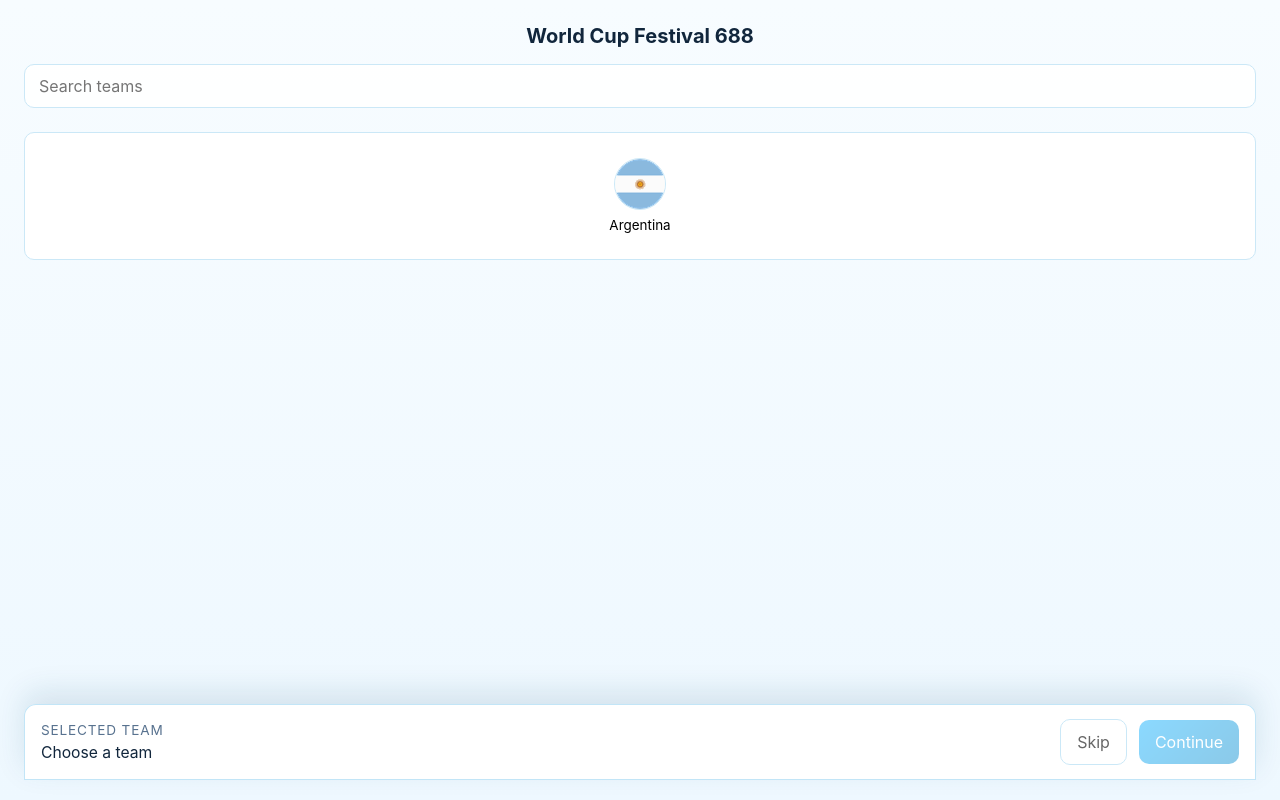
reloads team availability and clears the selection after a conflict
The image size is (1280, 800).
Step 1. Click the button "Argentina" → (640, 196), box top-left (24, 132), bottom-right (1256, 260)
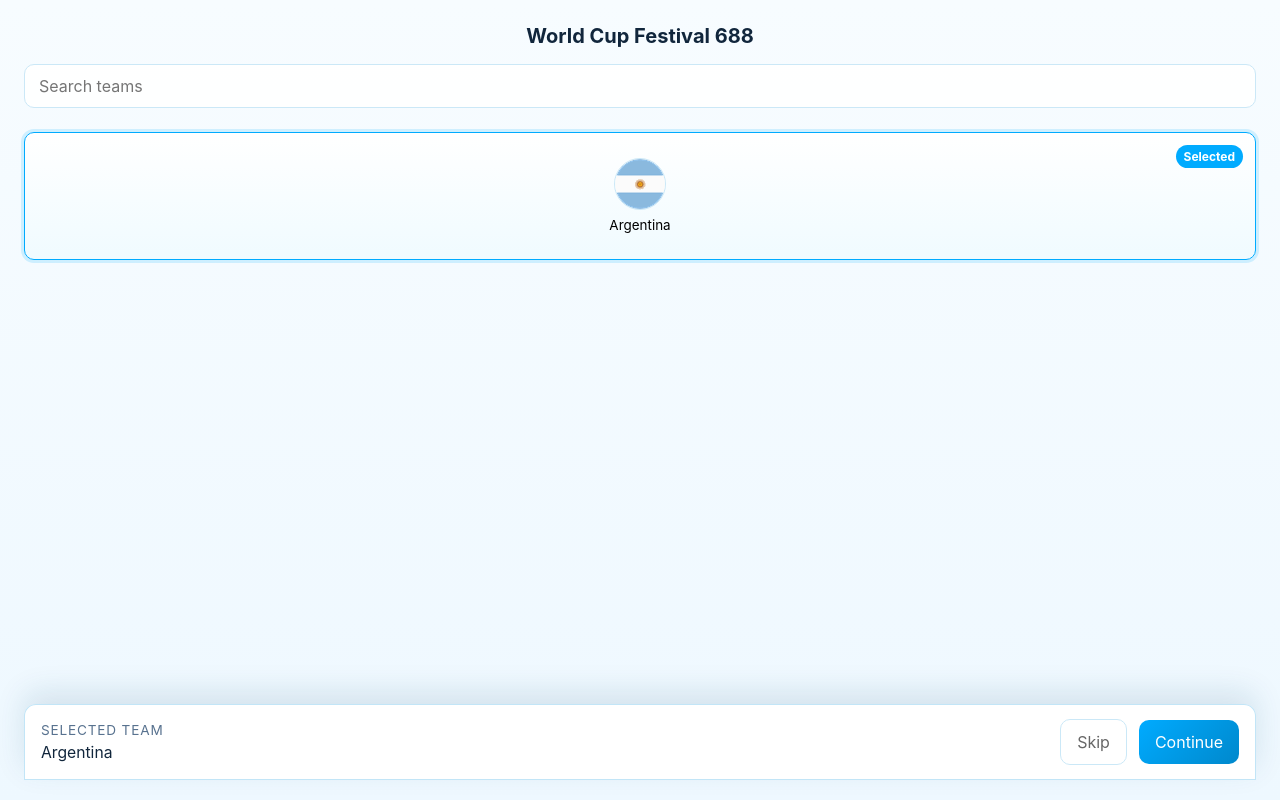
Step 2. Click the button "Continue" → (1189, 742), box top-left (1139, 720), bottom-right (1239, 764)
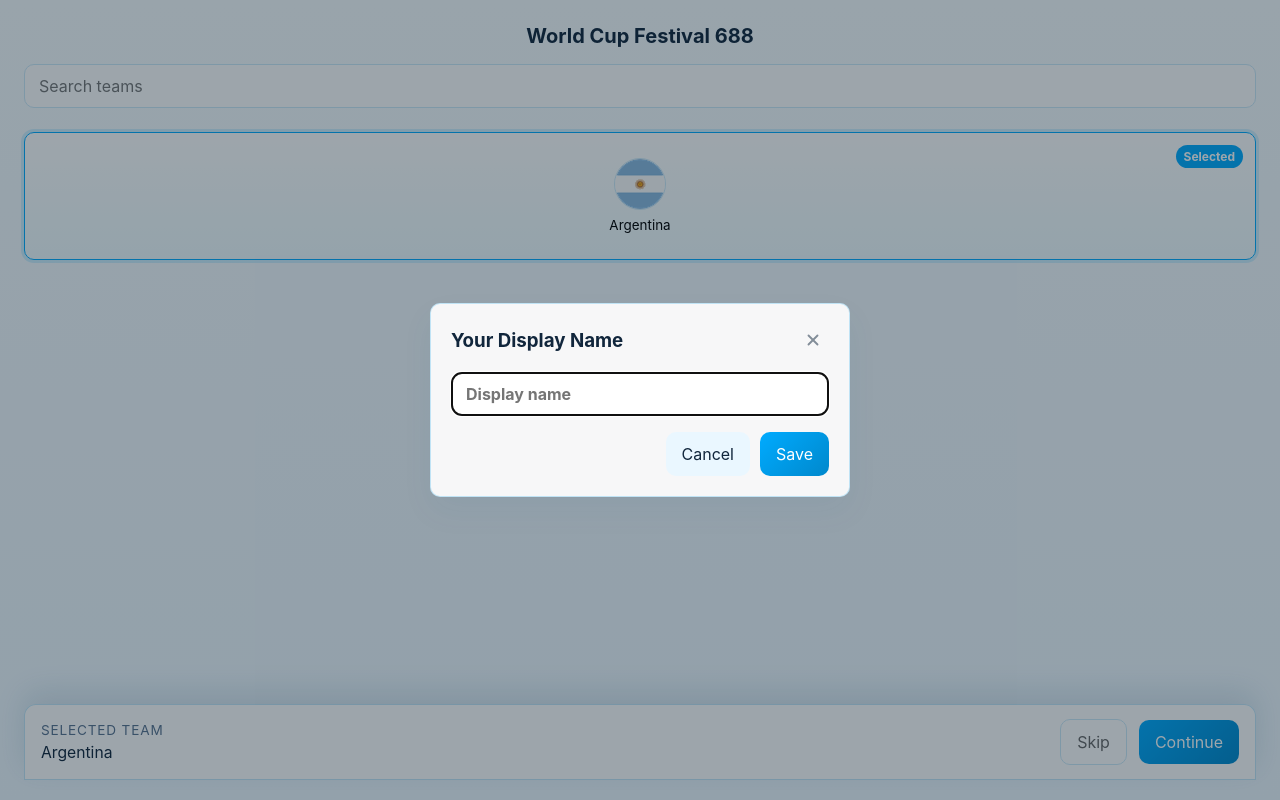
Step 3. Type "Seng" into the field with placeholder "Display name" → (640, 394), box top-left (451, 372), bottom-right (829, 416)
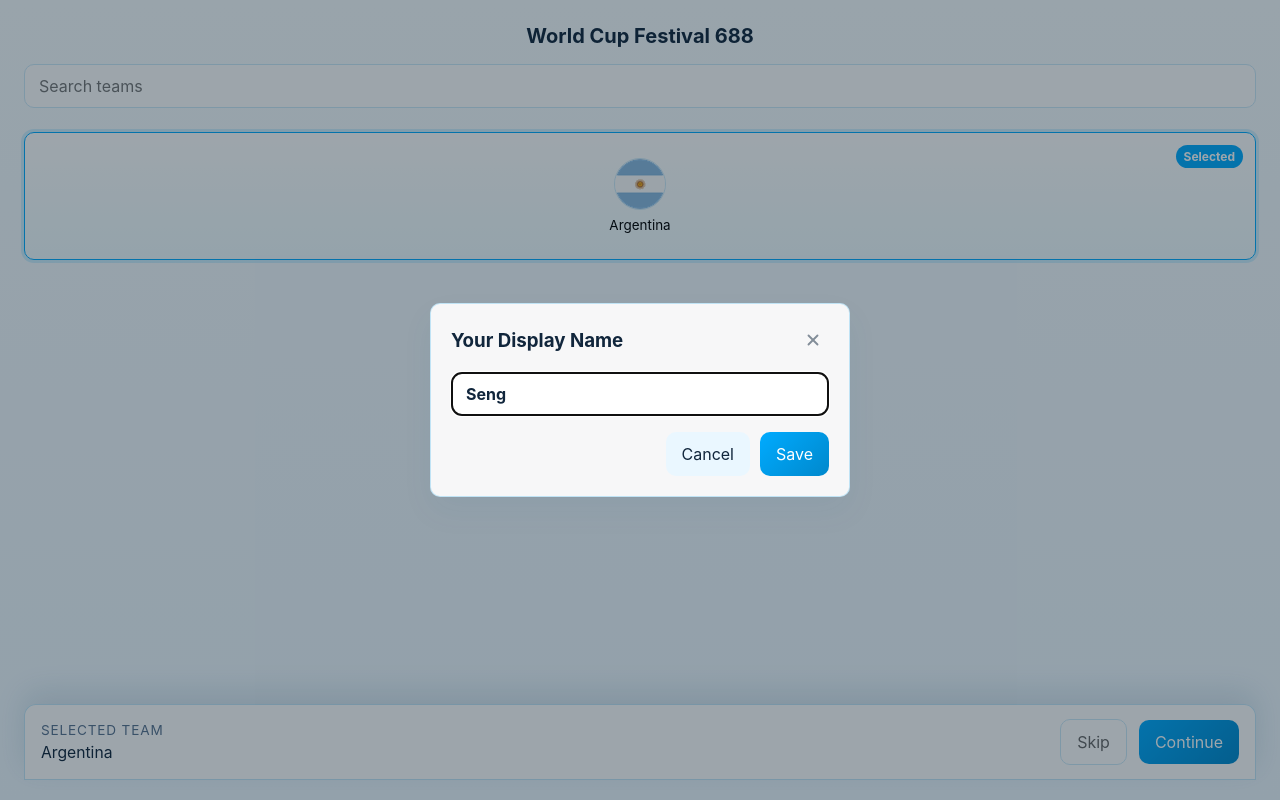
Step 4. Click the button "Save" → (794, 454), box top-left (760, 432), bottom-right (829, 476)
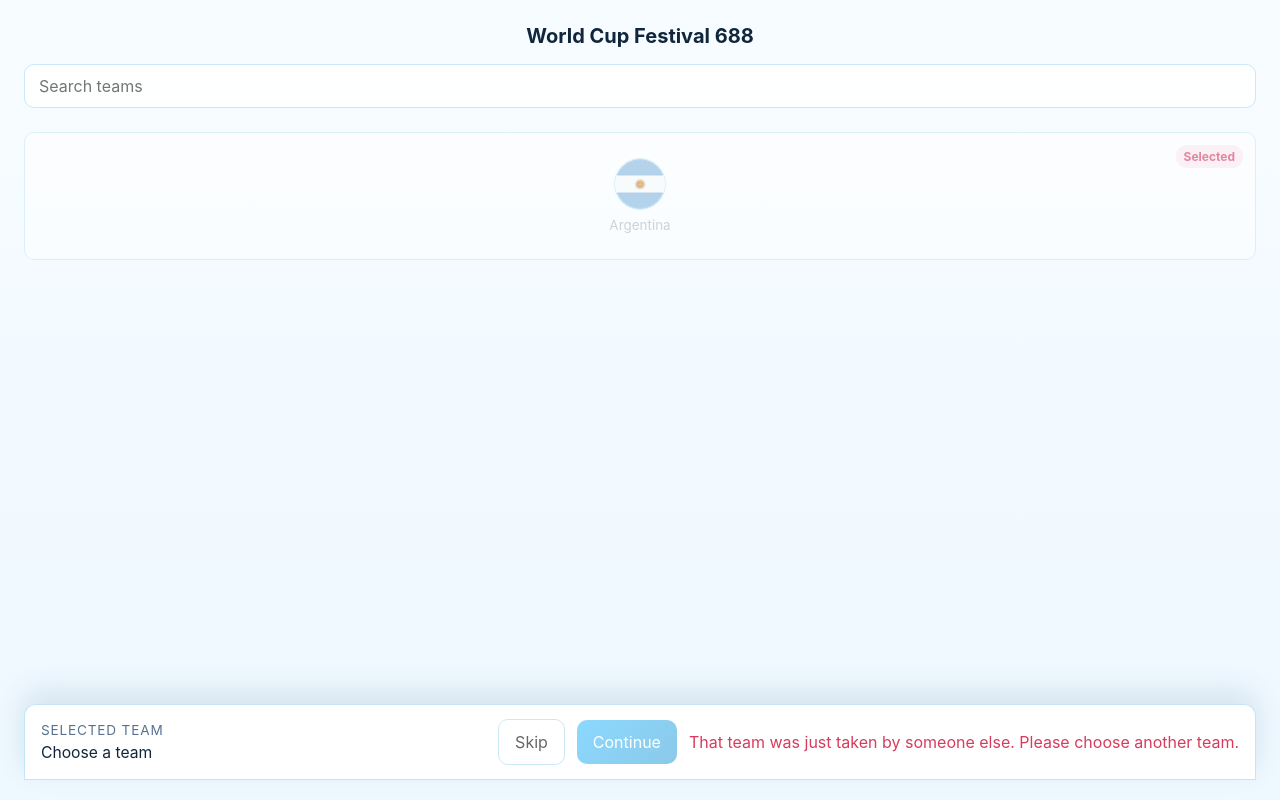
Expected: the text "That team was just taken by someone else. Please choose another team." is shown, top-left (689, 732), bottom-right (1239, 752)
Expected: the button "Continue" is disabled, top-left (577, 720), bottom-right (677, 764)
Expected: the button "Selected Argentina" is disabled, top-left (24, 132), bottom-right (1256, 260)
